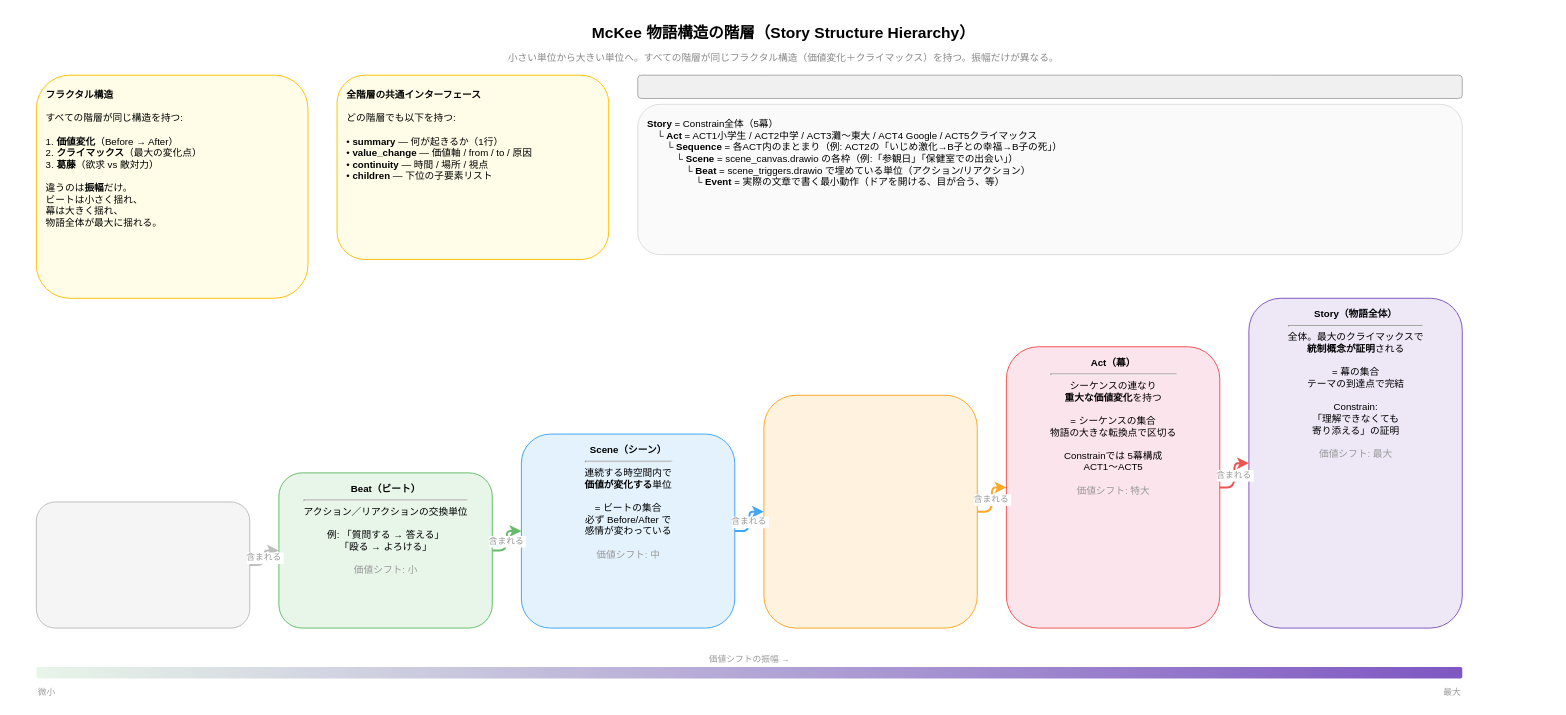
The diagram is 1566 pixels wide and 715 high, and some of its shapes have lost their labels. The centre of each missing label's shape, as x and y in pixels:
Constrainでの対応: the point at 1049,86
Event（イベント） 物理的行動・発話の最小単位 例: ドアを開ける、一言発する 価値シフト: 微小: the point at 142,564
Sequence（シーケンス） シーンの連なり 独自の小クライマックス を持つ = シーンの集合 一つのサブゴールに向かう まとまり 価値シフト: 大: the point at 870,511
